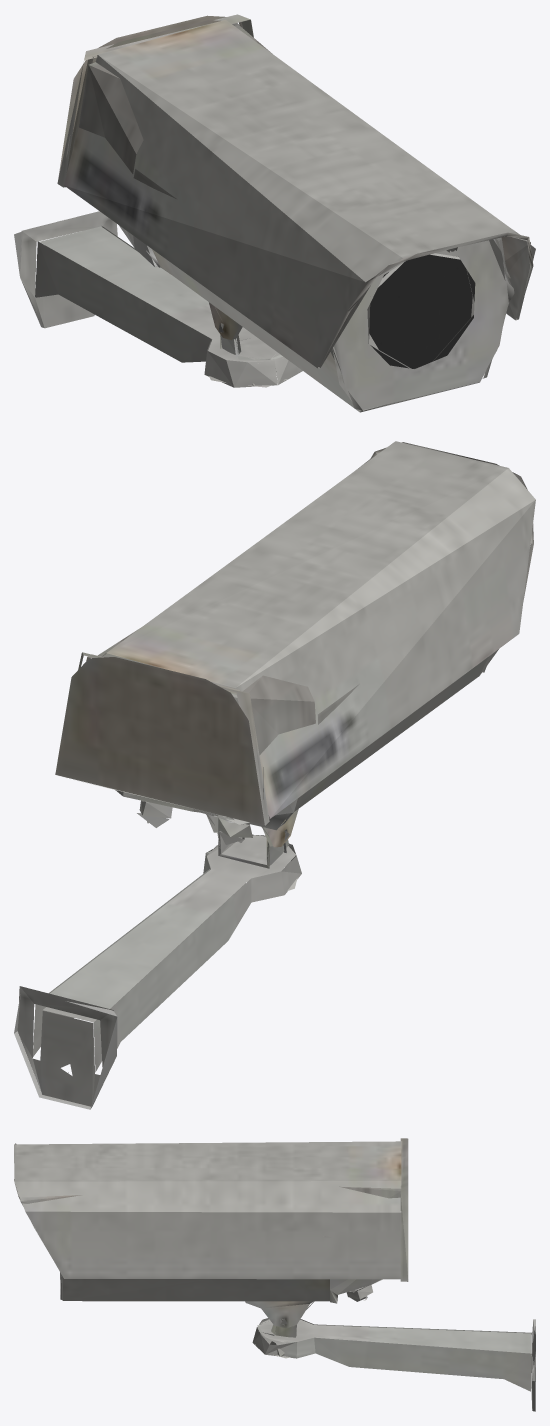
Rendered from security_camera_01.glb.
3 renders of one model, top to bottom at view 1: azimuth 30°, elevation 25°; view 2: azimuth 150°, elevation 25°; view 3: azimuth 270°, elevation 25°, orthographic. The views are drawn at different scales.
Parts seen in each view (by area): view 1: security_camera_01; view 2: security_camera_01; view 3: security_camera_01.
Part boxes in pixels (x1,y1,x2,y2): security_camera_01: (14,14,535,412); security_camera_01: (14,441,535,1109); security_camera_01: (14,1138,535,1411).
Bounding box in the file's own units: 0.1715 × 0.2856 × 0.5538.
2 materials, 2 textured.
